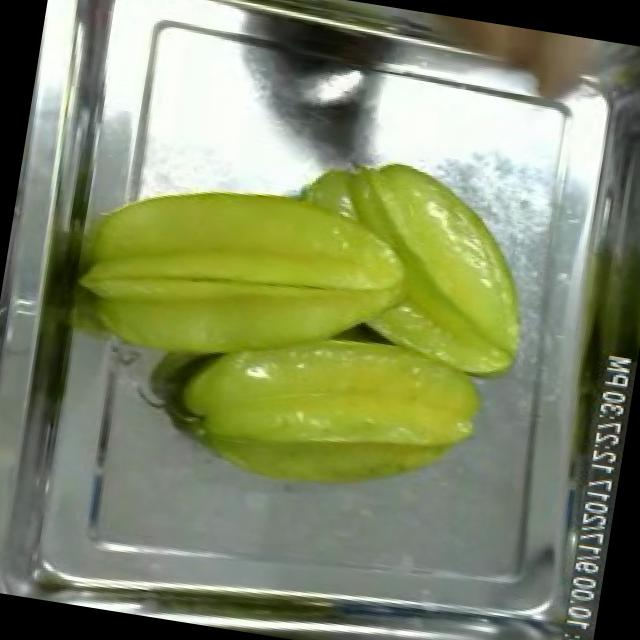fruit: (128, 116, 554, 511), (147, 290, 502, 528)
